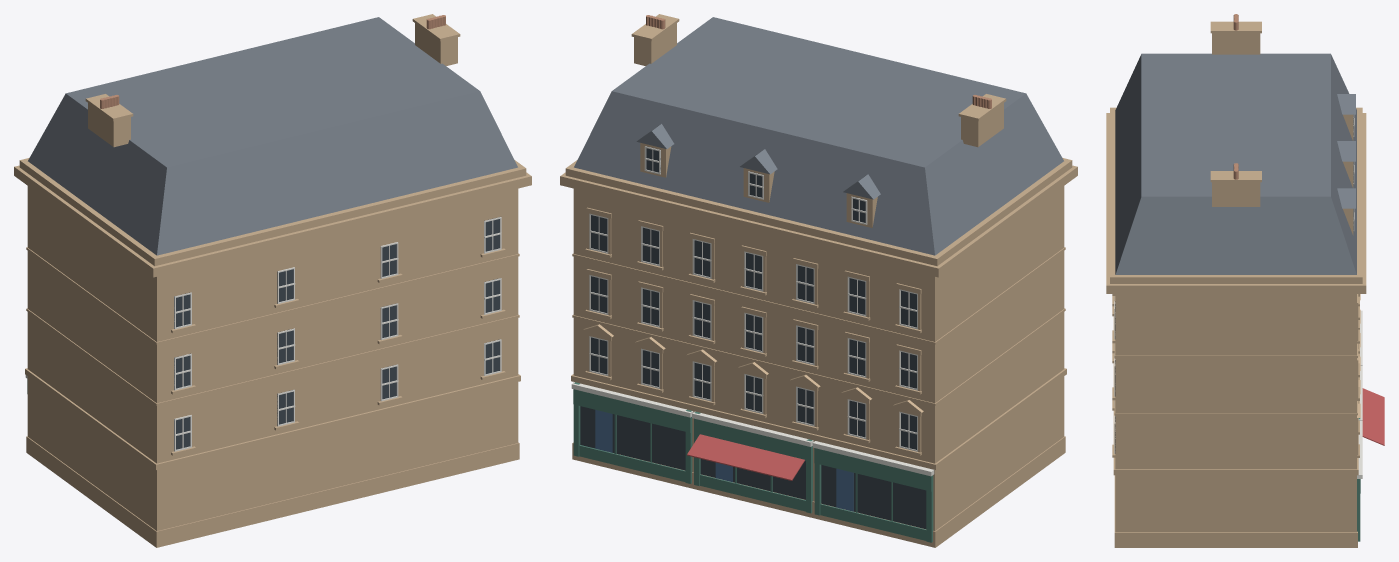
The model's file is classical4_shops.glb.
3 renders of one model, left to right at view 1: azimuth 30°, elevation 25°; view 2: azimuth 150°, elevation 25°; view 3: azimuth 270°, elevation 25°, orthographic. The views are drawn at different scales.
Parts seen in each view (by area): view 1: classical4_shops; view 2: classical4_shops; view 3: classical4_shops.
Boxes of the visible parts, x1,y1,x2,y2 form: classical4_shops: (14, 14, 531, 547); classical4_shops: (560, 14, 1077, 547); classical4_shops: (1106, 14, 1384, 547).
Bounding box in the file's own units: 22 × 22.12 × 15.
